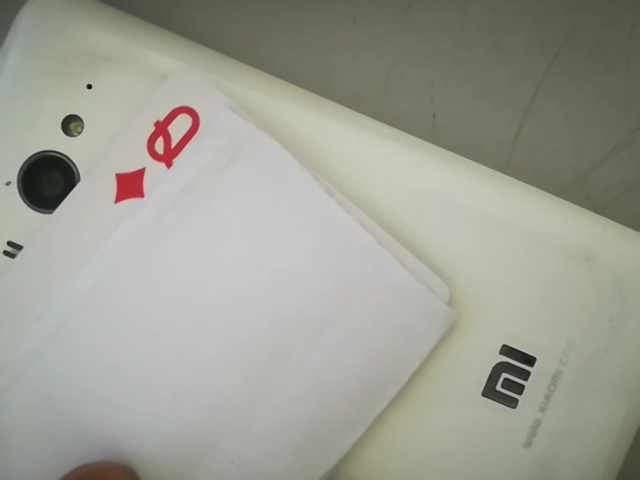fk q: (106, 95, 211, 204)
